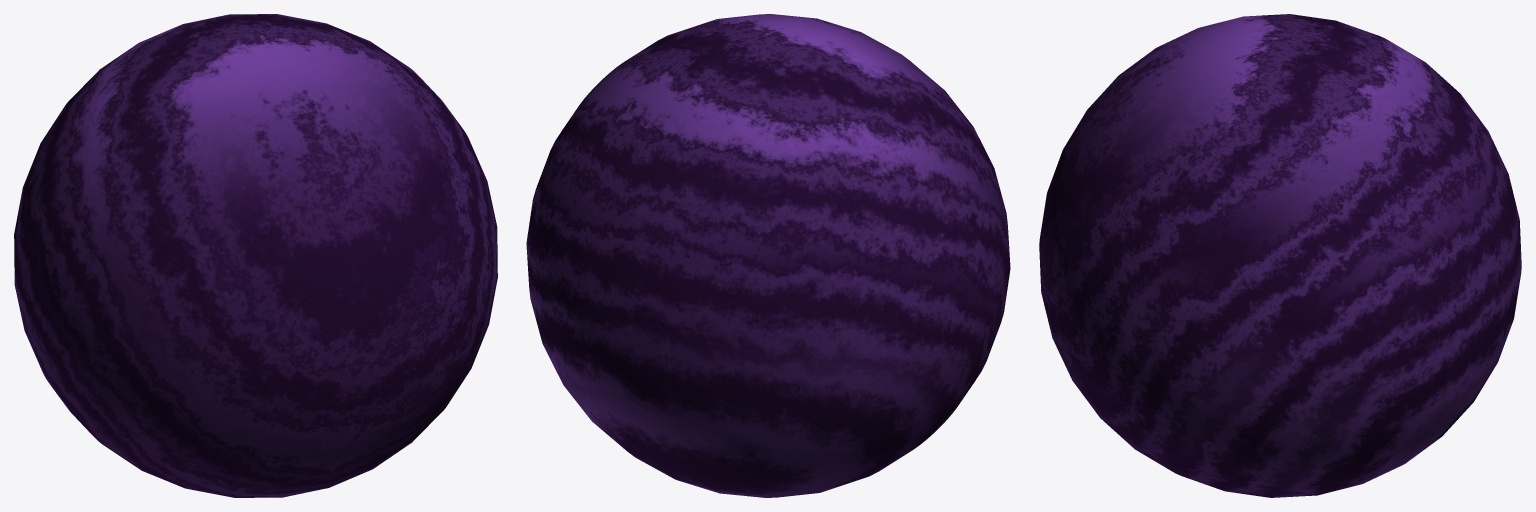
File: Planet2.fbx
3 renders of one model, left to right at view 1: azimuth 30°, elevation 25°; view 2: azimuth 150°, elevation 25°; view 3: azimuth 270°, elevation 25°, orthographic.
Parts seen in each view (by area): view 1: Planet.001; view 2: Planet.001; view 3: Planet.001.
Boxes of the visible parts, <box> form: Planet.001: <box>14,14,497,497</box>; Planet.001: <box>526,14,1010,497</box>; Planet.001: <box>1039,14,1521,497</box>.
Size of the model in its own units: 37.63 by 37.63 by 37.43.
